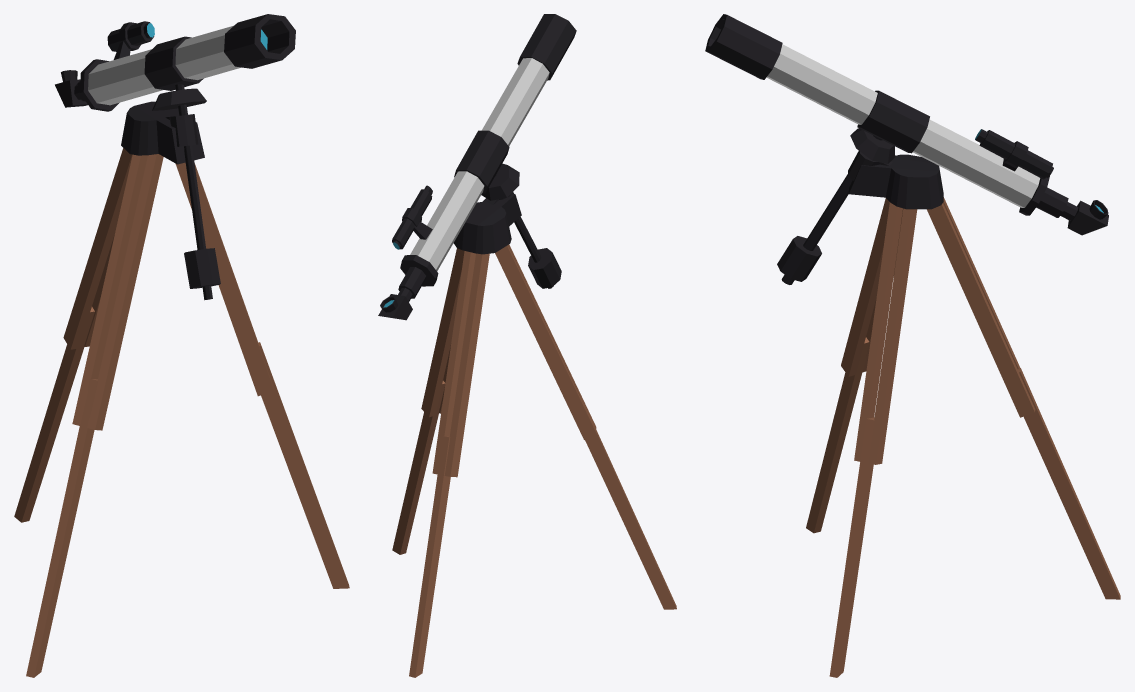
The model's file is telescope.glb.
3 renders of one model, left to right at view 1: azimuth 30°, elevation 25°; view 2: azimuth 150°, elevation 25°; view 3: azimuth 270°, elevation 25°, orthographic. The views are drawn at different scales.
Parts seen in each view (by area): view 1: telescope; view 2: telescope; view 3: telescope.
Boxes of the visible parts, x1,y1,x2,y2 form: telescope: (14,14,349,677); telescope: (378,14,676,677); telescope: (705,14,1120,677).
Bounding box in the file's own units: 0.5423 × 1 × 0.628.
